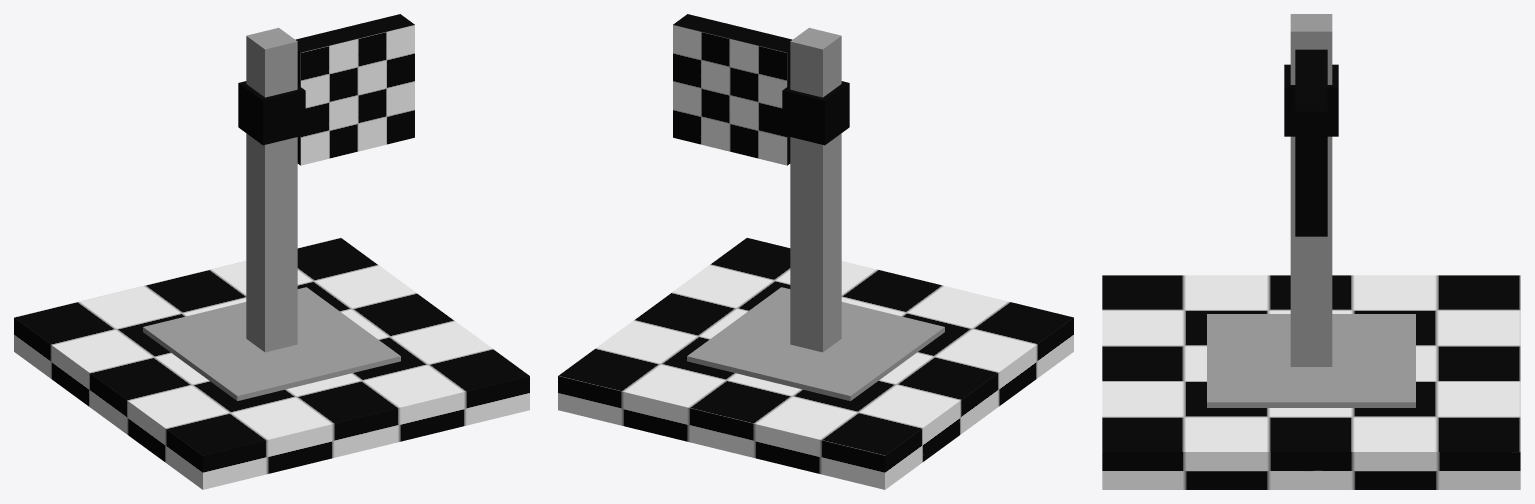
The model's file is Flag (1).fbx.
3 renders of one model, left to right at view 1: azimuth 30°, elevation 25°; view 2: azimuth 150°, elevation 25°; view 3: azimuth 270°, elevation 25°, orthographic. The views are drawn at different scales.
Parts seen in each view (by area): view 1: Flag; view 2: Flag; view 3: Flag.
Boxes of the visible parts, bbox=[...] form: Flag: bbox=[14, 14, 529, 489]; Flag: bbox=[558, 14, 1073, 489]; Flag: bbox=[1102, 14, 1520, 489].
Bounding box in the file's own units: 1 × 1 × 1.
1 material, 1 textured.
